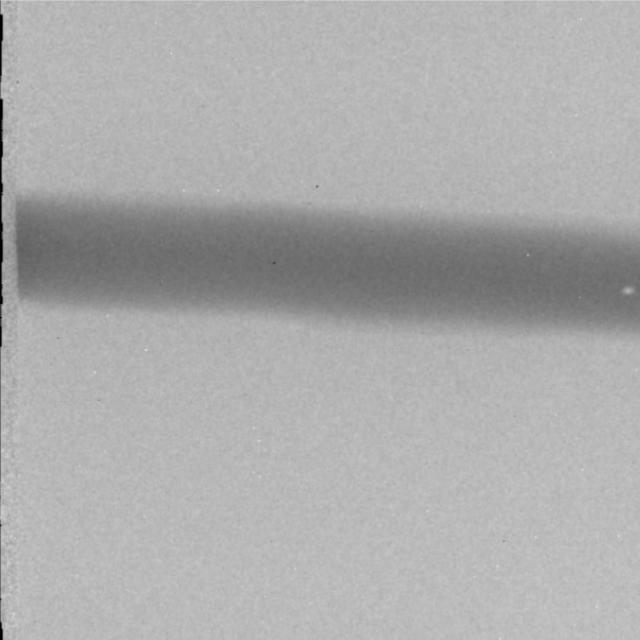air hole: (621, 283, 633, 298)
